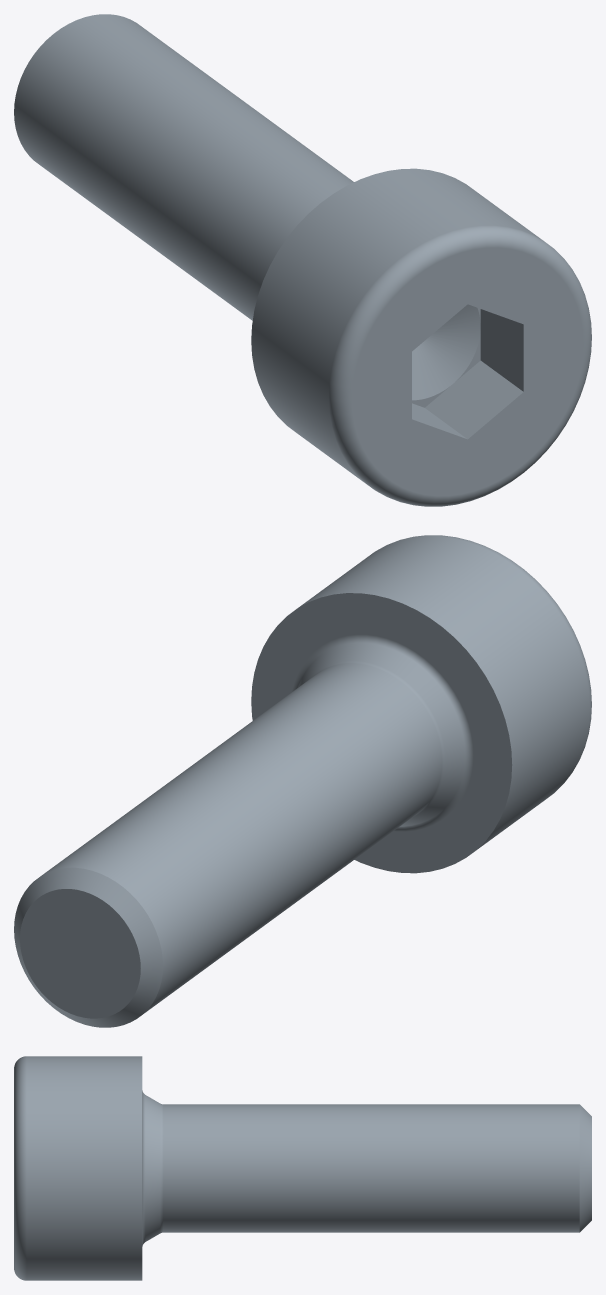
The model's file is Hex_socket_head_cap_screw_M4x0_70_x_14.obj.
3 views of the same model, one above another, from view 1: azimuth 30°, elevation 25°; view 2: azimuth 150°, elevation 25°; view 3: azimuth 270°, elevation 25° (orthographic). The views are drawn at different scales.
Parts seen in each view (by area): view 1: mesh17, mesh24, mesh22, mesh23, mesh32, mesh30, mesh25; view 2: mesh17, mesh22, mesh21, mesh15, mesh16, mesh19, mesh20, mesh23, mesh18; view 3: mesh17, mesh22, mesh23, mesh19, mesh16, mesh20, mesh18.
Part boxes in pixels (left/top/right/bottom): mesh17: left=14, top=14, right=353, bottom=320; mesh24: left=352, top=247, right=583, bottom=495; mesh22: left=251, top=168, right=541, bottom=481; mesh23: left=328, top=225, right=591, bottom=506; mesh32: left=412, top=304, right=480, bottom=400; mesh30: left=425, top=360, right=523, bottom=439; mesh25: left=480, top=309, right=523, bottom=391; mesh17: left=41, top=663, right=442, bottom=1014; mesh22: left=298, top=536, right=589, bottom=852; mesh21: left=251, top=593, right=512, bottom=873; mesh15: left=20, top=889, right=140, bottom=1018; mesh16: left=14, top=867, right=162, bottom=1027; mesh19: left=298, top=643, right=464, bottom=826; mesh20: left=292, top=634, right=473, bottom=831; mesh23: left=378, top=535, right=591, bottom=782; mesh18: left=311, top=660, right=445, bottom=817; mesh17: left=163, top=1104, right=579, bottom=1232; mesh22: left=27, top=1056, right=142, bottom=1280; mesh23: left=14, top=1056, right=26, bottom=1280; mesh19: left=145, top=1095, right=160, bottom=1241; mesh16: left=579, top=1104, right=591, bottom=1232; mesh20: left=142, top=1090, right=145, bottom=1246; mesh18: left=160, top=1103, right=163, bottom=1233.
Size of the model in its own units: 0.007 by 0.00699 by 0.018.
